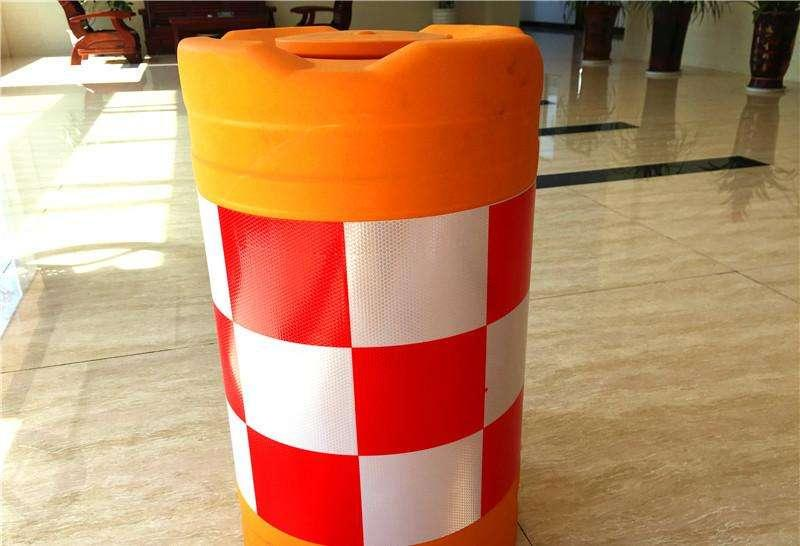sign: (156, 22, 558, 543)
